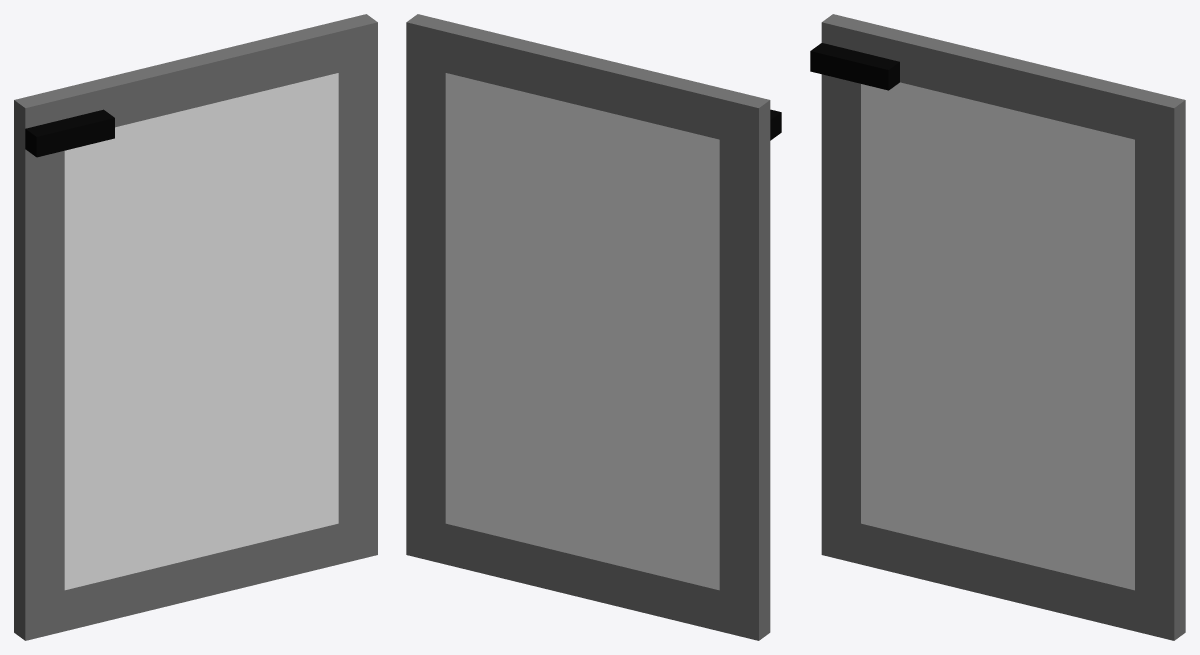
File: Level1-20-14-21.obj
3 renders of one model, left to right at view 1: azimuth 30°, elevation 25°; view 2: azimuth 150°, elevation 25°; view 3: azimuth 330°, elevation 25°, orthographic.
Parts seen in each view (by area): view 1: Level1-20-14-21; view 2: Level1-20-14-21; view 3: Level1-20-14-21.
Boxes of the visible parts, bbox=[...] form: Level1-20-14-21: bbox=[14, 14, 377, 640]; Level1-20-14-21: bbox=[406, 14, 781, 640]; Level1-20-14-21: bbox=[810, 14, 1185, 640].
Bounding box in the file's own units: 18 × 26 × 2.
Materials: 1 (1 with a texture image).
